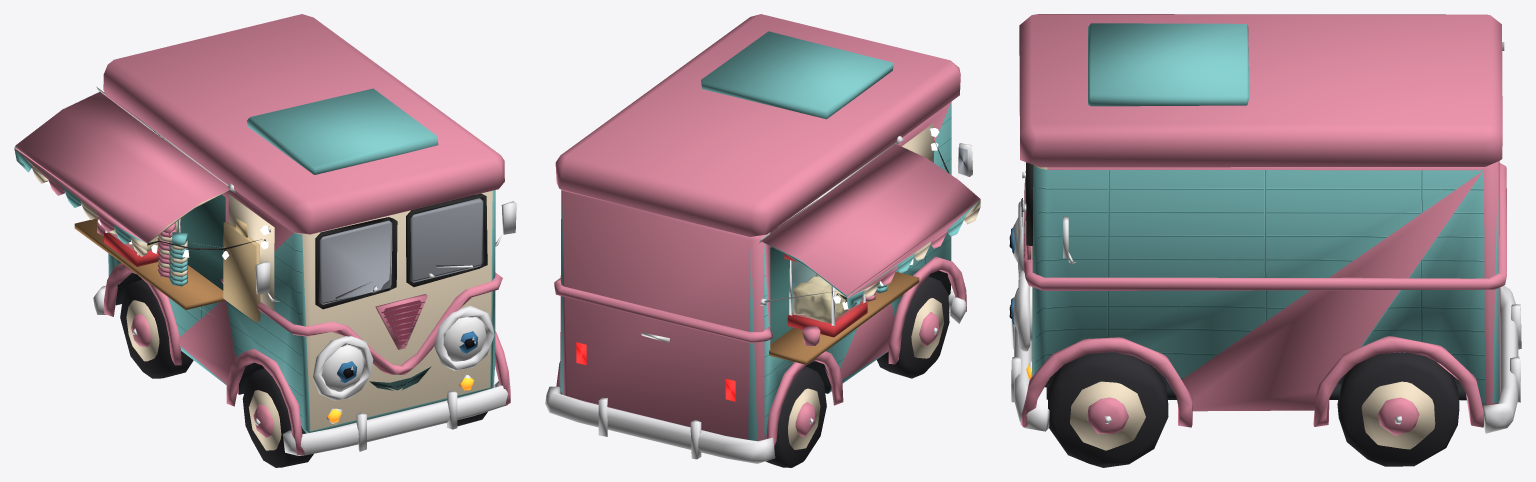
File: ice-cream-truck.glb
The picture shows the model from 3 angles, left to right: view 1: azimuth 30°, elevation 25°; view 2: azimuth 150°, elevation 25°; view 3: azimuth 270°, elevation 25°; orthographic projection. The views are drawn at different scales.
Visible parts, largest first — view 1: ice-cream-truck; view 2: ice-cream-truck; view 3: ice-cream-truck.
Boxes of the visible parts, x1,y1,x2,y2 form: ice-cream-truck: [14, 14, 516, 467]; ice-cream-truck: [545, 14, 980, 467]; ice-cream-truck: [1009, 14, 1521, 467].
Size of the model in its own units: 3.38 by 3 by 3.95.
Materials: 25 (1 with a texture image).
